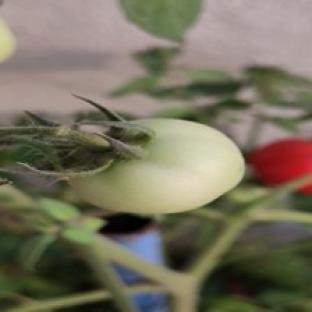Tomato: (69, 119, 245, 214), (248, 140, 311, 185), (0, 20, 15, 62)
